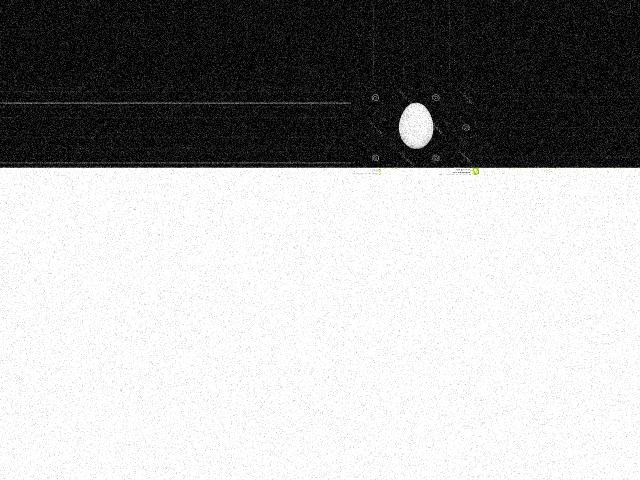egg: (397, 103, 432, 149)
